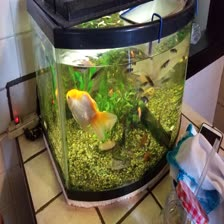Cuezo: (62, 85, 112, 138)
